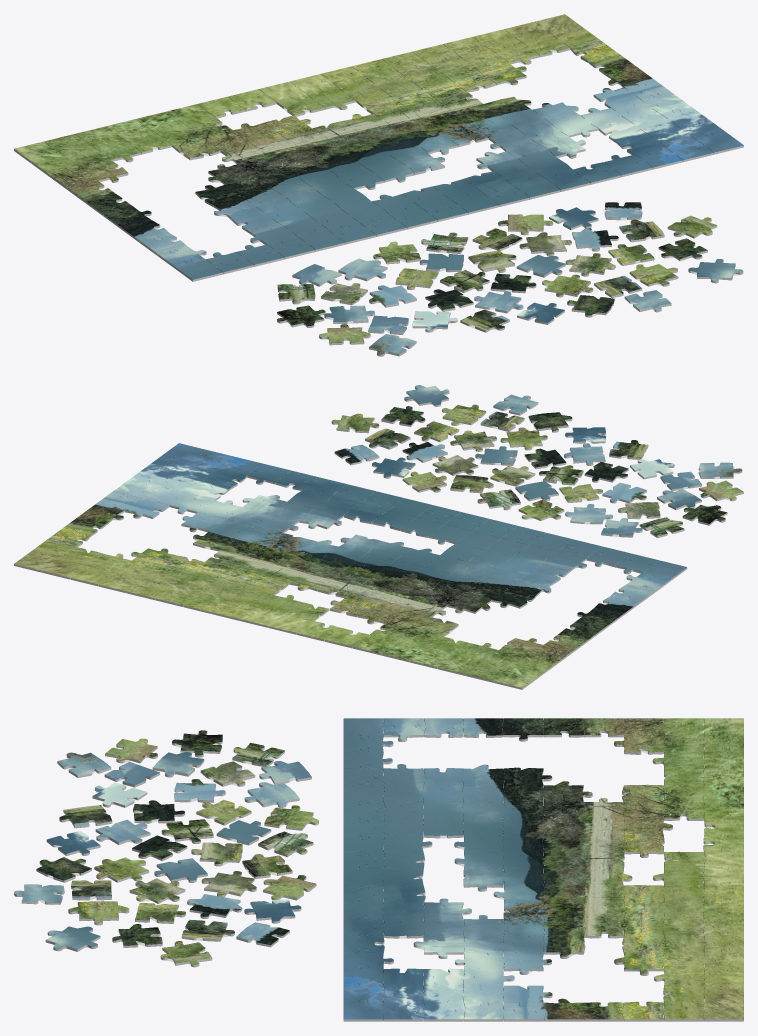
Rendered from jigsaw_unfished.fbx.
3 views of the same model, one above another, from view 1: azimuth 30°, elevation 25°; view 2: azimuth 150°, elevation 25°; view 3: azimuth 270°, elevation 25° (orthographic). The views are drawn at different scales.
Parts seen in each view (by area): view 1: JigsawPiece.121, JigsawPiece.009, JigsawPiece.027, JigsawPiece.113, JigsawPiece.051, JigsawPiece.022, JigsawPiece.049, JigsawPiece.071, JigsawPiece.035, JigsawPiece.114, JigsawPiece.008, JigsawPiece.052 (+143 smaller); view 2: JigsawPiece.121, JigsawPiece.051, JigsawPiece.009, JigsawPiece.113, JigsawPiece.027, JigsawPiece.049, JigsawPiece.022, JigsawPiece.071, JigsawPiece.123, JigsawPiece.096, JigsawPiece.008, JigsawPiece.073 (+122 smaller); view 3: JigsawPiece.121, JigsawPiece.009, JigsawPiece.027, JigsawPiece.049, JigsawPiece.113, JigsawPiece.051, JigsawPiece.096, JigsawPiece.114, JigsawPiece.022, JigsawPiece.033, JigsawPiece.073, JigsawPiece.076 (+168 smaller).
Boxes of the visible parts, x1,y1,x2,y2 form: JigsawPiece.121: [688, 259, 743, 283]; JigsawPiece.009: [542, 274, 593, 297]; JigsawPiece.027: [629, 264, 678, 286]; JigsawPiece.113: [338, 258, 387, 281]; JigsawPiece.051: [519, 232, 571, 256]; JigsawPiece.022: [498, 214, 553, 235]; JigsawPiece.049: [565, 253, 615, 276]; JigsawPiece.071: [277, 305, 325, 327]; JigsawPiece.035: [667, 215, 717, 238]; JigsawPiece.114: [474, 291, 523, 313]; JigsawPiece.008: [373, 241, 420, 264]; JigsawPiece.052: [468, 250, 516, 272]; JigsawPiece.121: [404, 385, 449, 406]; JigsawPiece.051: [432, 455, 478, 475]; JigsawPiece.009: [500, 427, 547, 450]; JigsawPiece.113: [565, 504, 612, 524]; JigsawPiece.027: [442, 404, 486, 425]; JigsawPiece.049: [450, 430, 496, 451]; JigsawPiece.022: [402, 471, 446, 492]; JigsawPiece.071: [682, 505, 727, 525]; JigsawPiece.123: [299, 508, 343, 529]; JigsawPiece.096: [402, 442, 447, 462]; JigsawPiece.008: [518, 500, 564, 520]; JigsawPiece.073: [528, 412, 572, 432]; JigsawPiece.121: [45, 926, 100, 951]; JigsawPiece.009: [94, 857, 149, 882]; JigsawPiece.027: [68, 901, 129, 925]; JigsawPiece.049: [129, 878, 185, 903]; JigsawPiece.113: [244, 782, 299, 807]; JigsawPiece.051: [201, 871, 256, 897]; JigsawPiece.096: [187, 894, 242, 918]; JigsawPiece.114: [95, 819, 150, 844]; JigsawPiece.022: [263, 875, 316, 900]; JigsawPiece.033: [614, 951, 671, 975]; JigsawPiece.073: [36, 857, 91, 882]; JigsawPiece.076: [493, 949, 551, 974].
Bounding box in the file's own units: 0.3035 × 0.0013 × 0.3112.
Materials: 2 (1 with a texture image).
